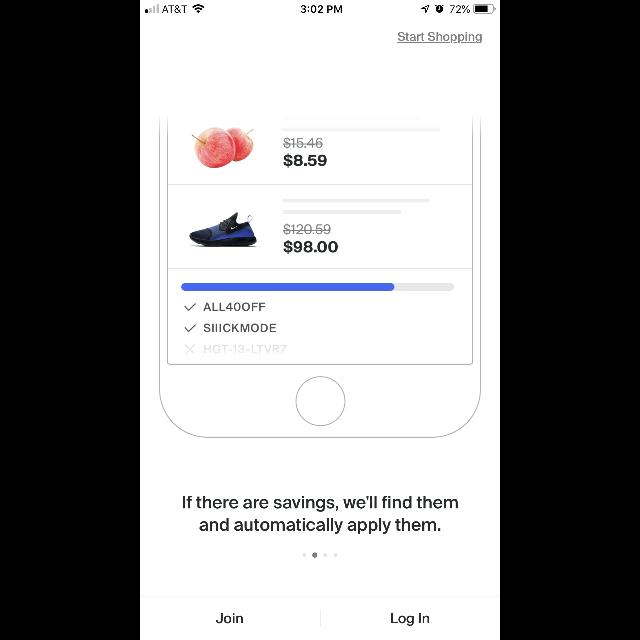image: (159, 116, 481, 438)
pageindicator: (302, 552, 338, 558)
text: (184, 496, 458, 534), (398, 32, 482, 44)
textbutton: (320, 596, 500, 640), (140, 596, 320, 640)
uppertaskbar: (140, 0, 500, 14)
